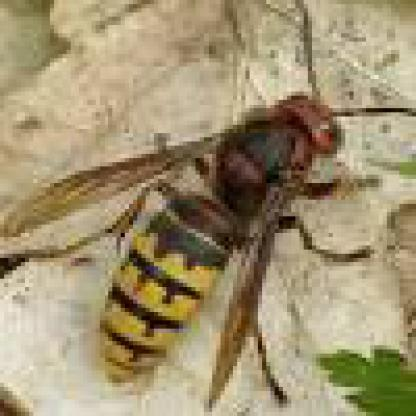european: (50, 50, 370, 408)
